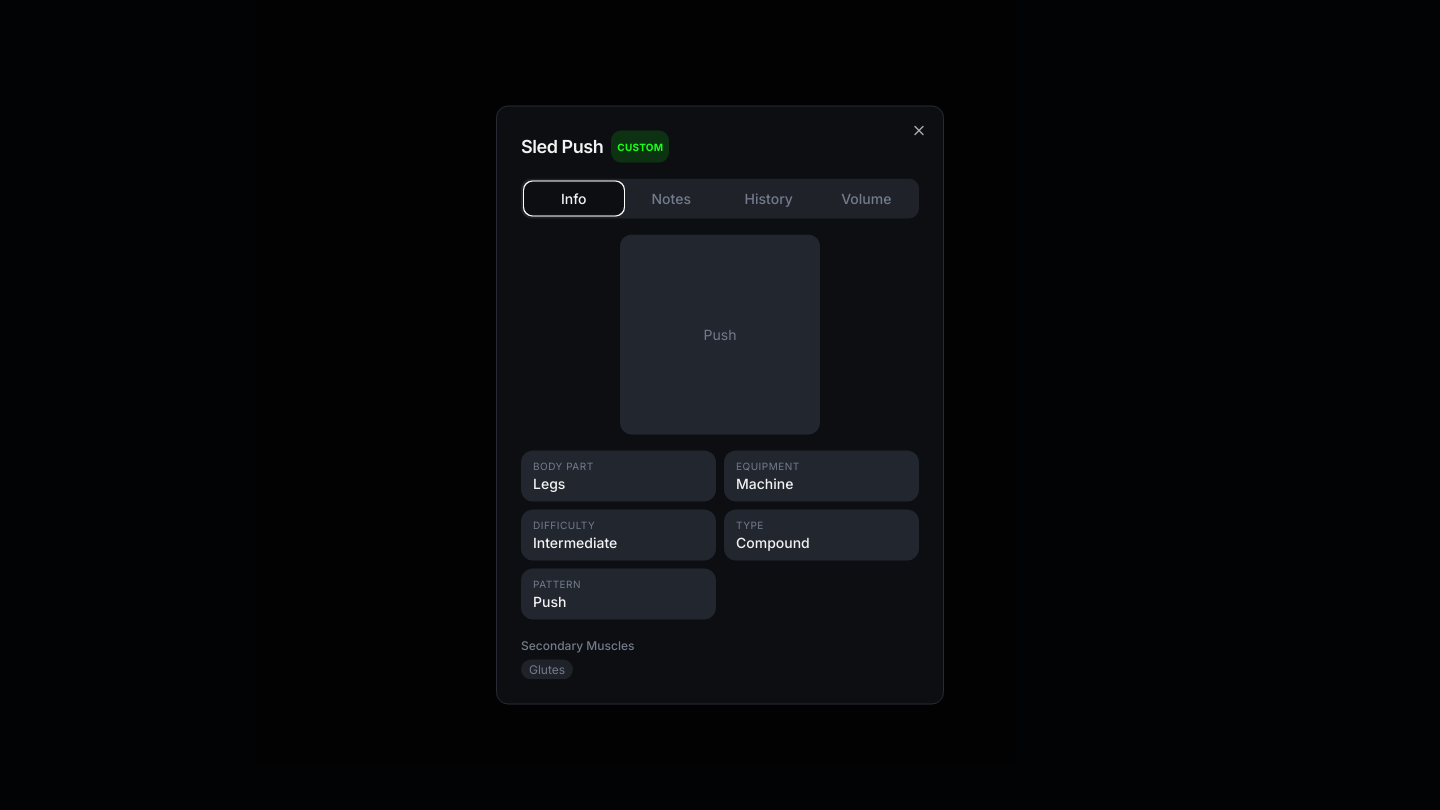
ExerciseDetailModal — custom exercises get a card › shows the custom exercise history, which is keyed off the same id
Press the mouse on the tab "History" at (769, 198), box [720,182,818,214]
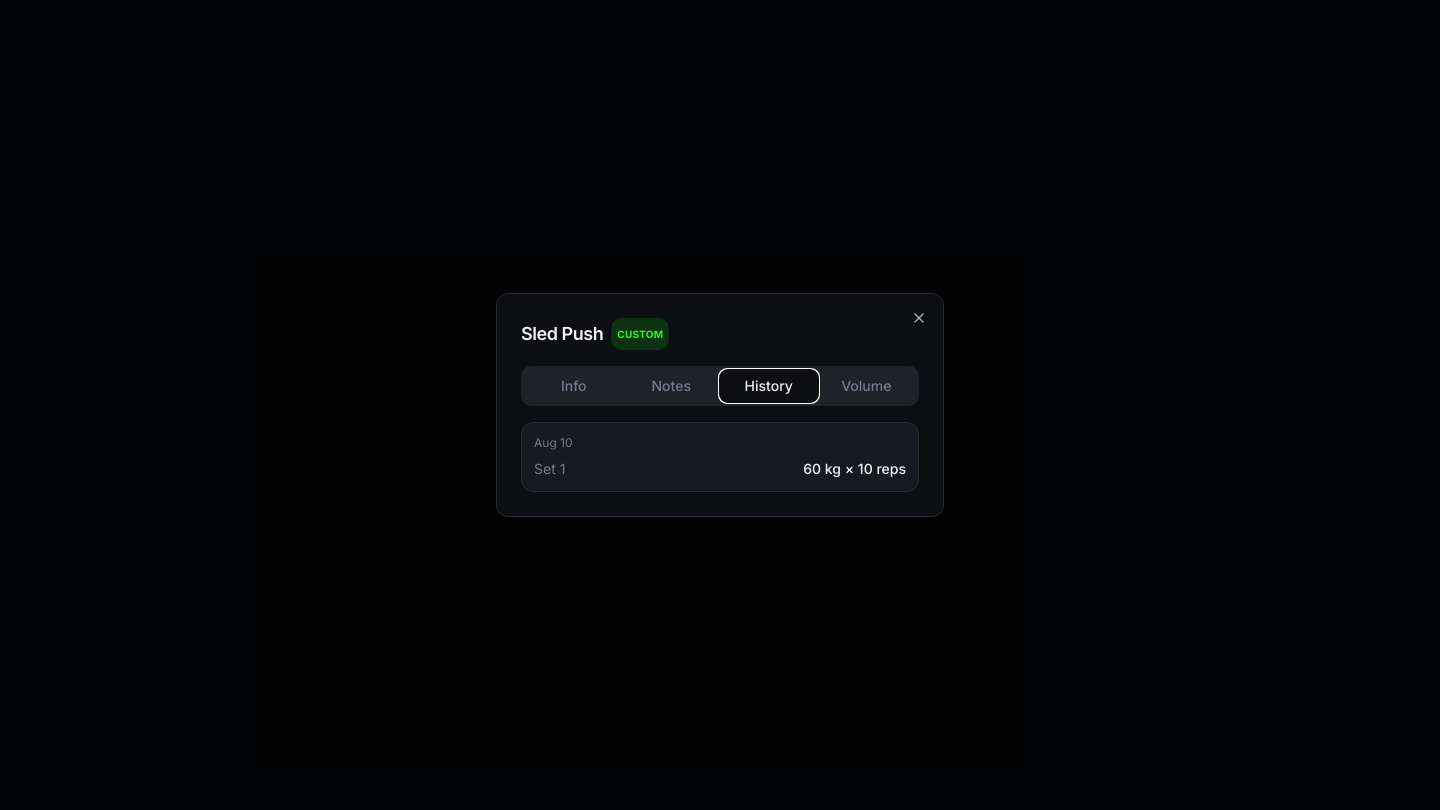
Expected: the text "Set 1" is shown, [534,459,565,479]
